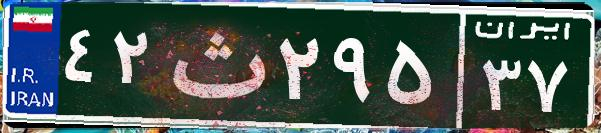2: (273, 28, 330, 110), (110, 28, 158, 105)
3: (475, 38, 525, 113)
4: (57, 26, 110, 107)
5: (385, 28, 445, 110)
7: (525, 38, 570, 115)
9: (330, 28, 385, 110)
ث: (158, 15, 273, 115)
